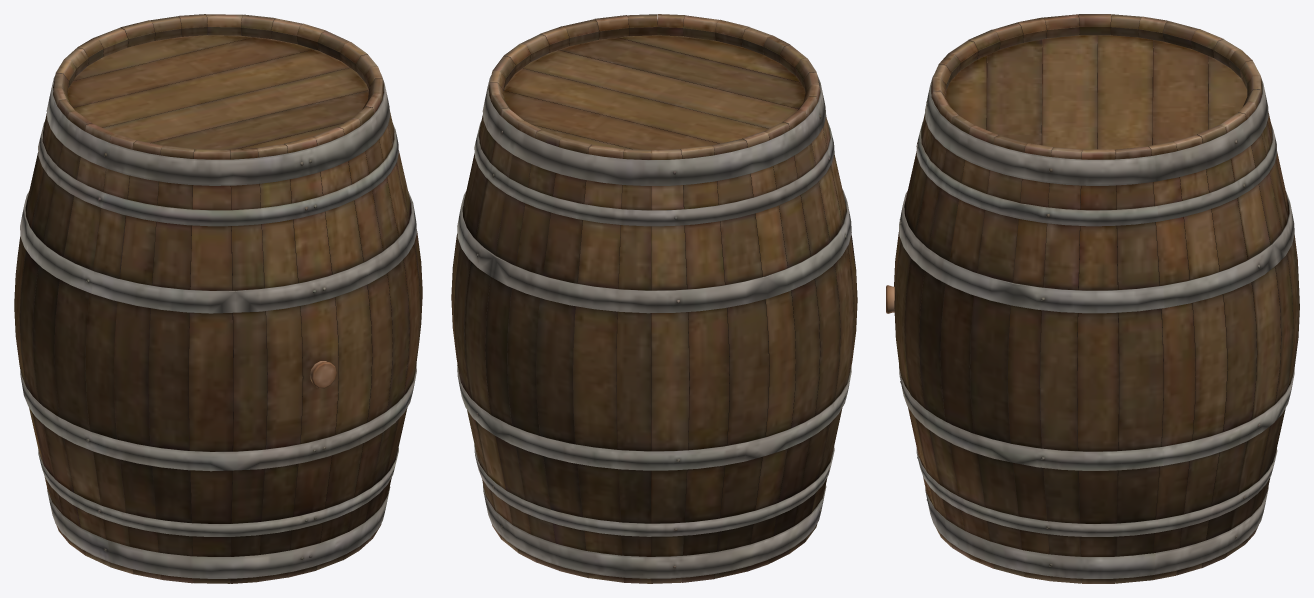
Rendered from barrel_wood.glb.
3 views of the same model, side by side, from view 1: azimuth 30°, elevation 25°; view 2: azimuth 150°, elevation 25°; view 3: azimuth 270°, elevation 25° (orthographic).
Parts seen in each view (by area): view 1: wine_barrel_01, wine_barrel_01_Lid, wine_barrel_01_bung; view 2: wine_barrel_01, wine_barrel_01_Lid; view 3: wine_barrel_01, wine_barrel_01_Lid.
Part boxes in pixels (x1=…): wine_barrel_01: x1=14, y1=14, x2=422, y2=583; wine_barrel_01_Lid: x1=67, y1=35, x2=368, y2=149; wine_barrel_01_bung: x1=310, y1=361, x2=336, y2=388; wine_barrel_01: x1=451, y1=14, x2=857, y2=583; wine_barrel_01_Lid: x1=503, y1=35, x2=805, y2=152; wine_barrel_01: x1=894, y1=14, x2=1299, y2=583; wine_barrel_01_Lid: x1=946, y1=35, x2=1247, y2=149.
Size of the model in its own units: 0.7419 by 0.8695 by 0.7561.
1 material, 1 textured.
